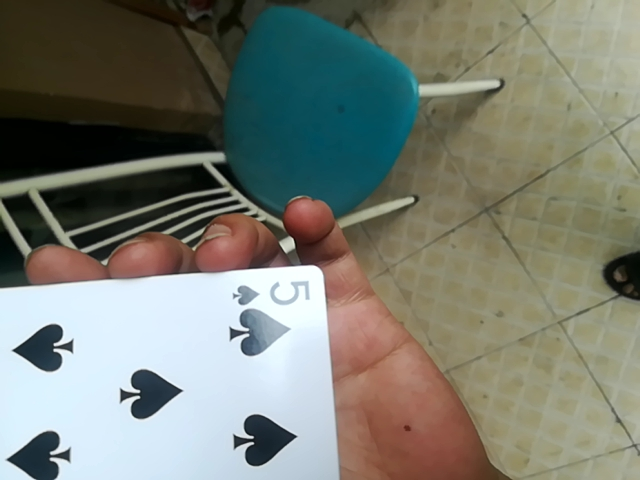ht 5: (0, 260, 340, 480)
